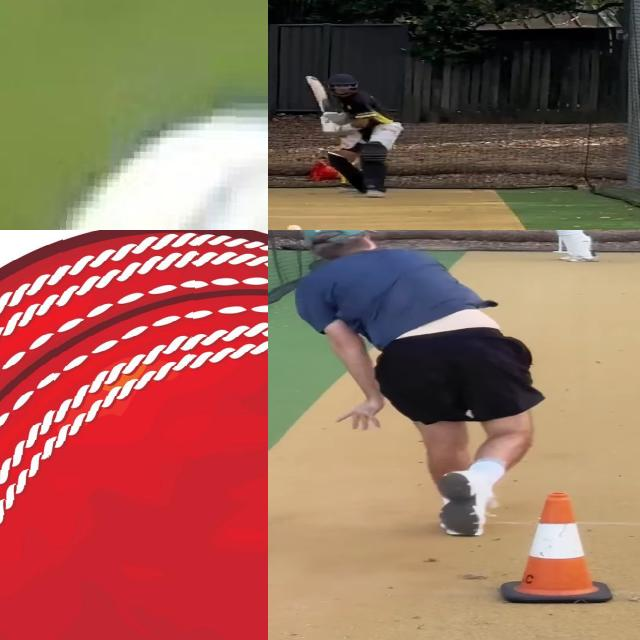Cricket ball: (0, 230, 268, 640), (34, 91, 268, 230), (285, 222, 304, 230)
